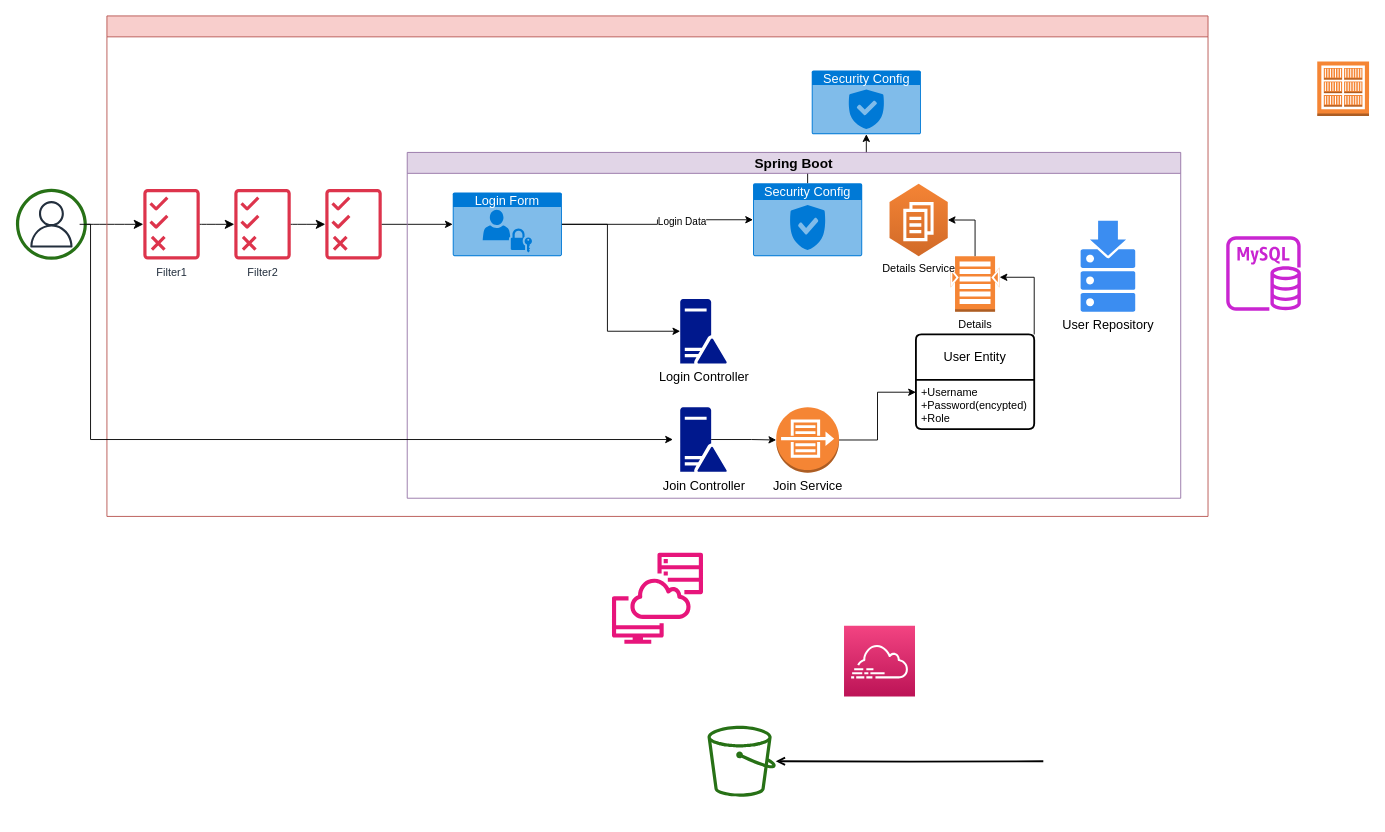
This 1385x832 diagram has some shape labels left out. The shapes that lost their labels are listed below. From the top down, each one's box as (x1, y1, x2, y2) in pixels, then its label:
(15, 188, 86, 259): Client
(325, 188, 381, 259): Filter3
(106, 15, 1208, 516): Servlet Container
(1226, 236, 1300, 310): DataBase
(612, 552, 703, 643): Session
(843, 625, 915, 697): AWS CloudTrail
(707, 725, 775, 796): Bucket
